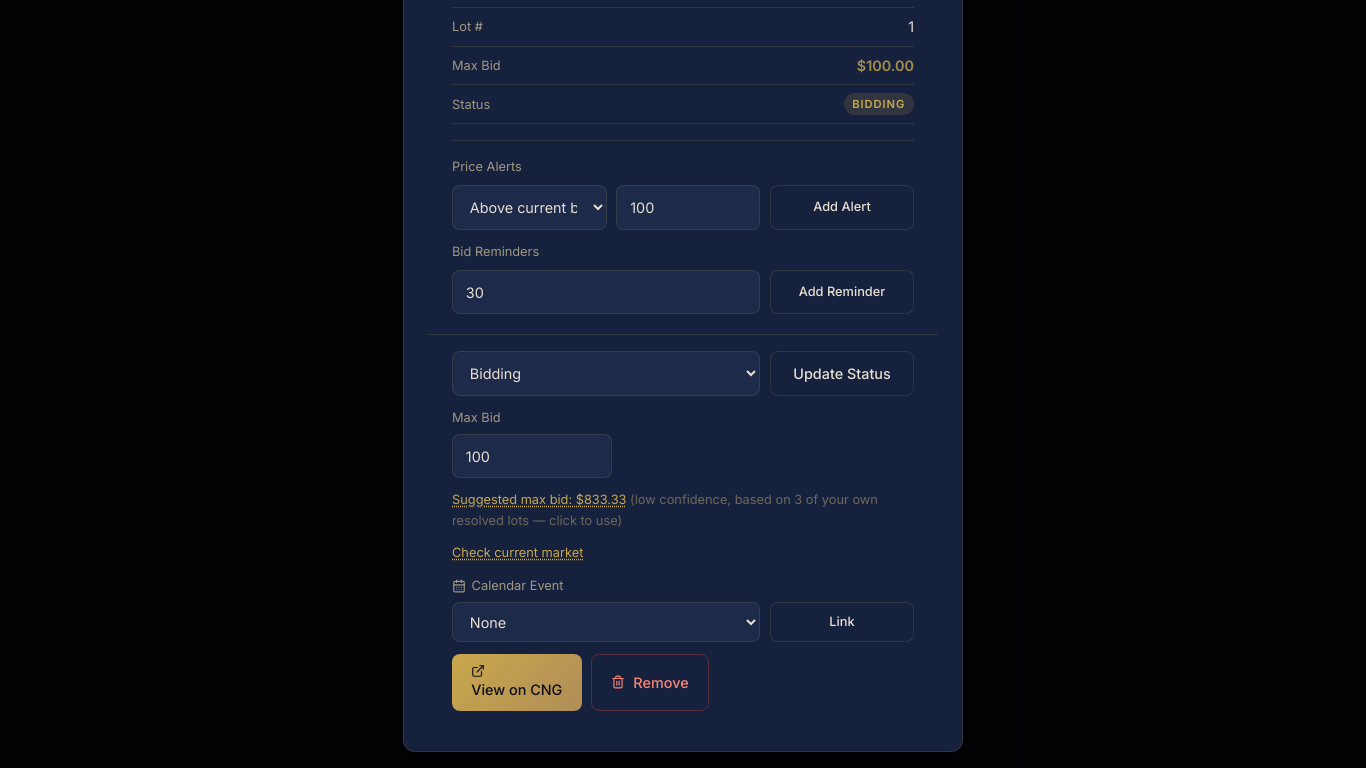
Scenario: AuctionLotDetailModal › shows a suggested max bid and lets the user apply it
(page scrolled)
Click the button "Suggested max bid: $833.33".
click(539, 501)  # box [452,490,626,511]
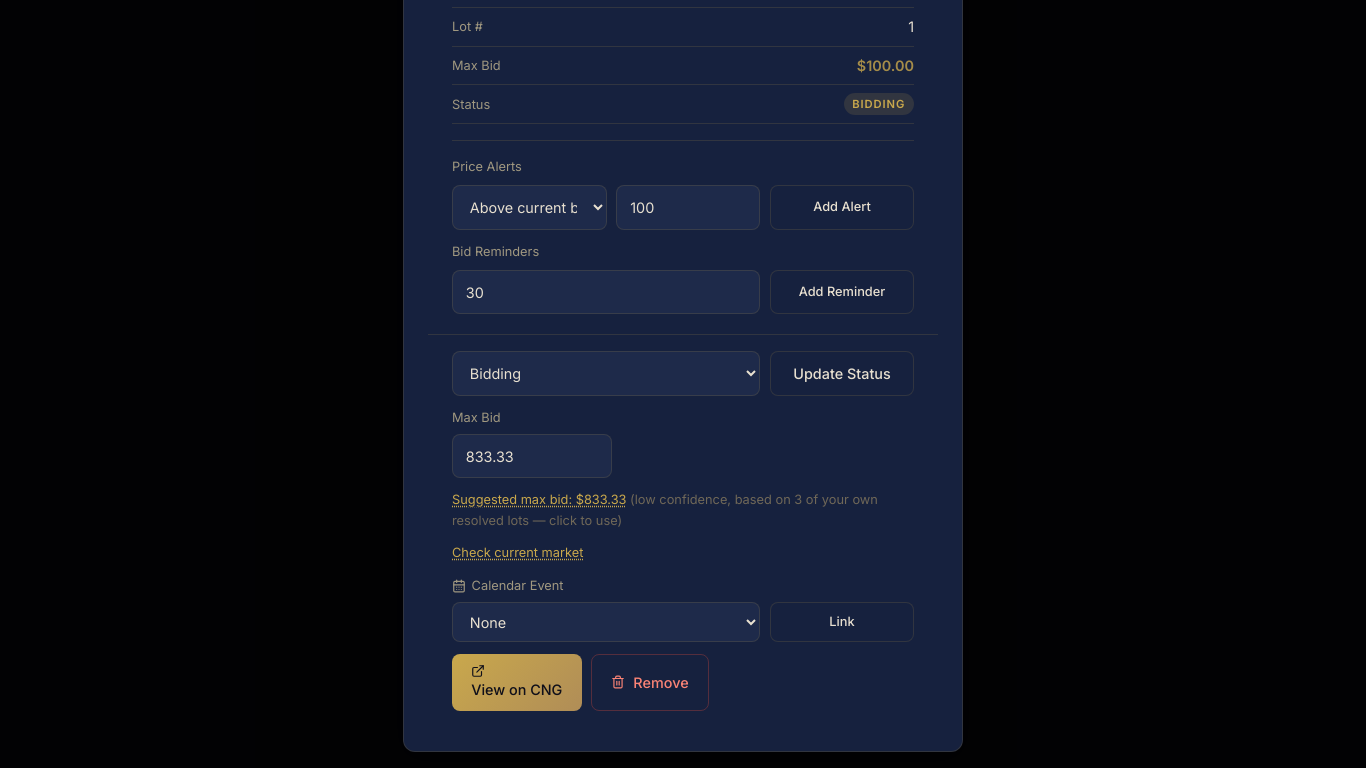
expect the number field with class "bid-input" holds "833.33": met, box [452,434,612,478]
